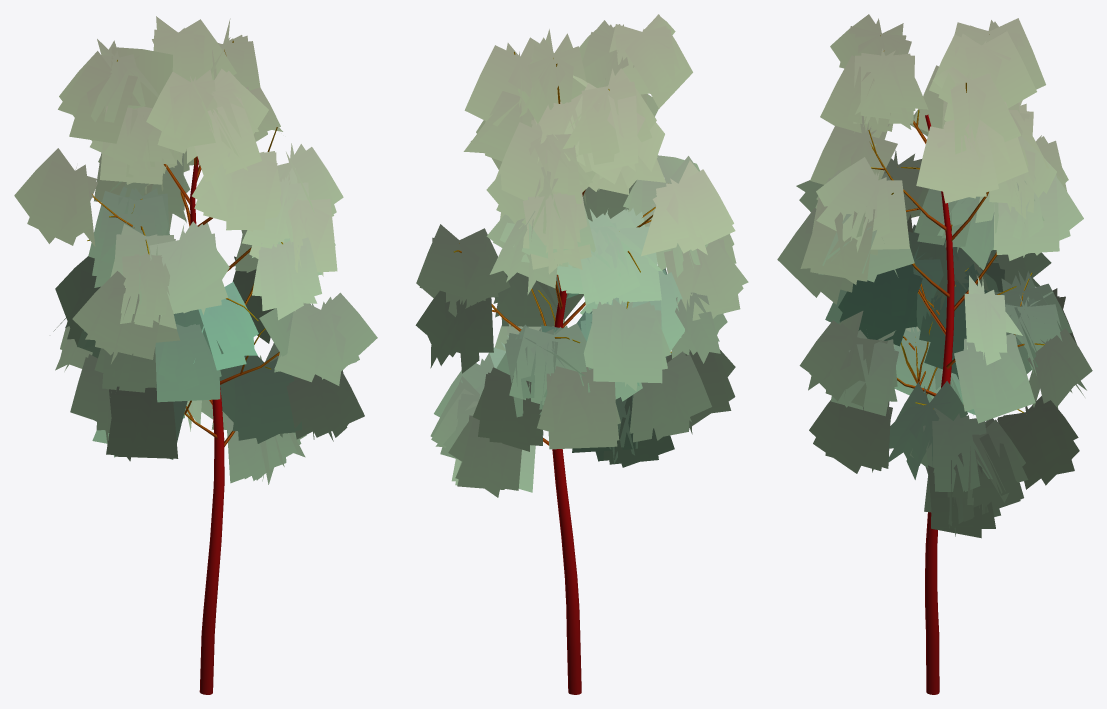
Rendered from young_birch_b.glb.
3 renders of one model, left to right at view 1: azimuth 30°, elevation 25°; view 2: azimuth 150°, elevation 25°; view 3: azimuth 270°, elevation 25°, orthographic. The views are drawn at different scales.
Parts seen in each view (by area): view 1: LOD0; view 2: LOD0; view 3: LOD0.
Boxes of the visible parts, x1,y1,x2,y2 form: LOD0: (14,16,377,694); LOD0: (415,14,748,694); LOD0: (777,14,1092,694).
Size of what is drawn, in the model's own units: 3.22 by 6.81 by 2.95.
